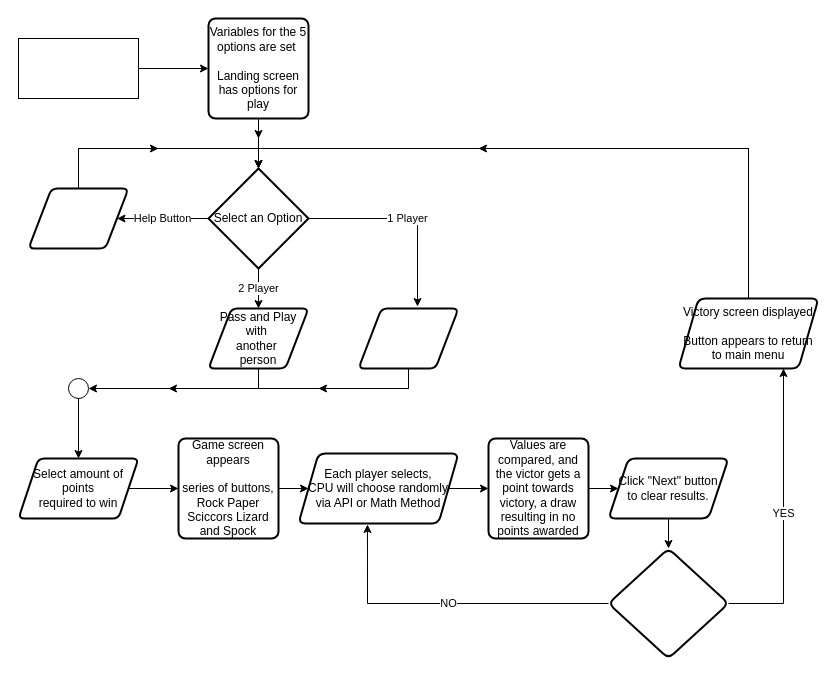
The diagram is 836 pixels wide and 676 high, and some of its shapes have lost their labels. Each missing label, with the centre of its shape:
Did one of the players earn enough points to win?: the point at 668,603
Help button displays rules of play: the point at 78,218
RPSLS Begins: the point at 78,68
Single Player vs CPU/API call: the point at 408,338
